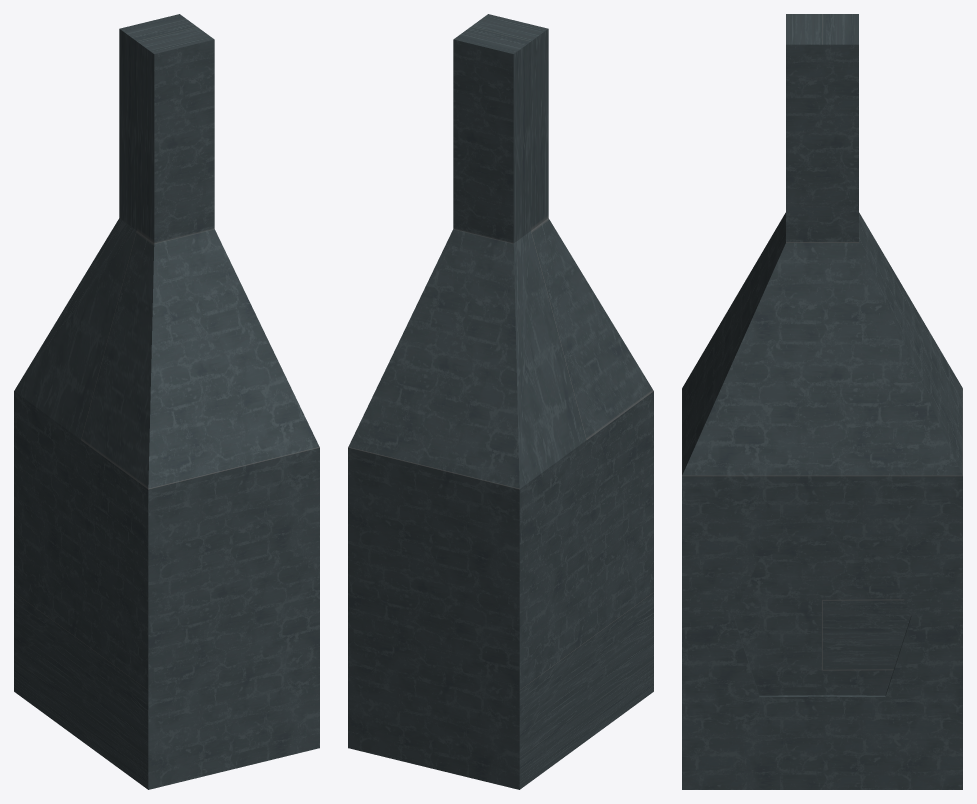
Rendered from Forja.fbx.
3 renders of one model, left to right at view 1: azimuth 30°, elevation 25°; view 2: azimuth 150°, elevation 25°; view 3: azimuth 270°, elevation 25°, orthographic. The views are drawn at different scales.
Parts seen in each view (by area): view 1: Forge; view 2: Forge; view 3: Forge.
Boxes of the visible parts, x1,y1,x2,y2 form: Forge: (14,14,319,789); Forge: (348,14,653,789); Forge: (682,14,962,789).
Bounding box in the file's own units: 569 × 2173 × 771.
1 material, 1 textured.
